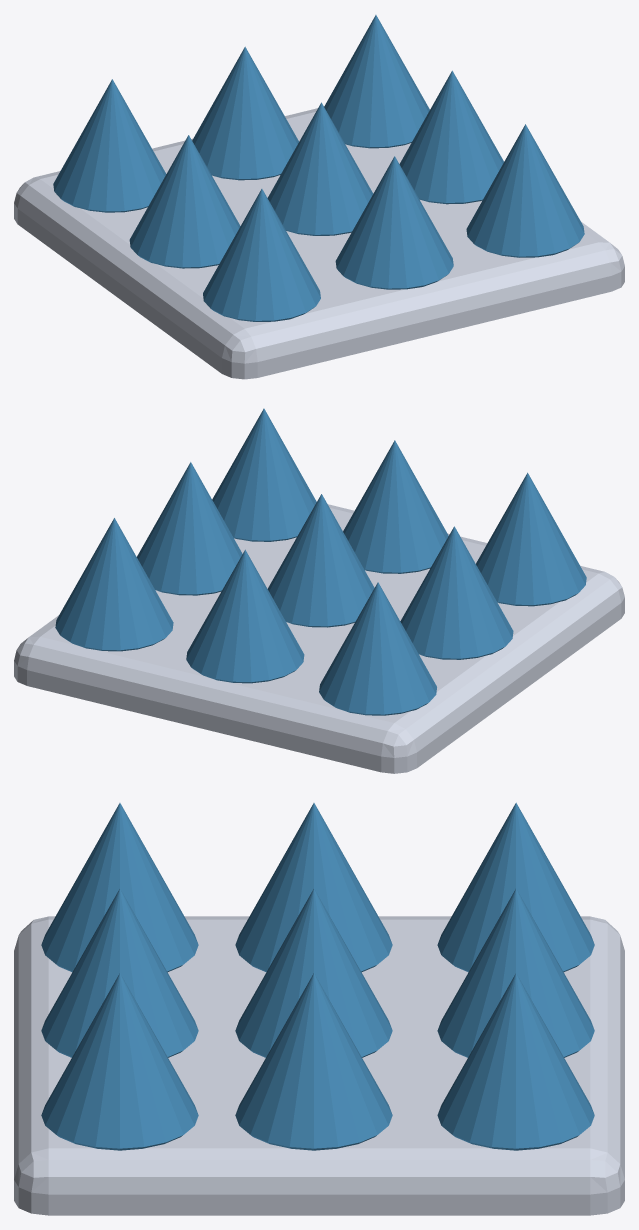
Rendered from spike.fbx.
3 renders of one model, top to bottom at view 1: azimuth 30°, elevation 25°; view 2: azimuth 150°, elevation 25°; view 3: azimuth 270°, elevation 25°, orthographic. The views are drawn at different scales.
Parts seen in each view (by area): view 1: spike; view 2: spike; view 3: spike.
Boxes of the visible parts, bbox=[...] form: spike: bbox=[14, 15, 624, 379]; spike: bbox=[14, 408, 624, 773]; spike: bbox=[14, 802, 624, 1215].
Bounding box in the file's own units: 1 × 0.3579 × 1.
